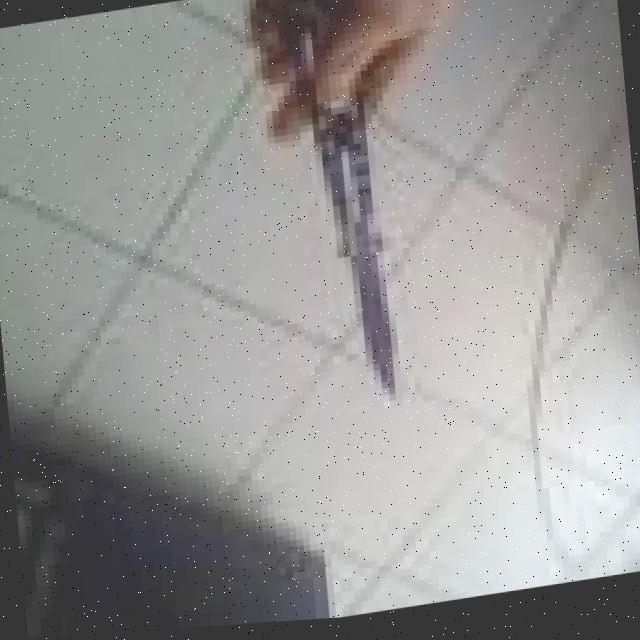knife: (312, 114, 401, 417)
